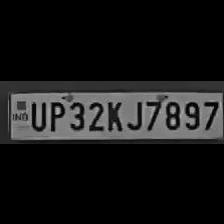2: (86, 97, 104, 131)
3: (65, 97, 84, 130)
7: (200, 97, 220, 130), (142, 96, 160, 130)
8: (162, 97, 182, 130)
9: (180, 97, 200, 129)
J: (125, 96, 143, 130)
K: (104, 97, 124, 131)
P: (46, 97, 64, 130)
U: (28, 97, 46, 130)
